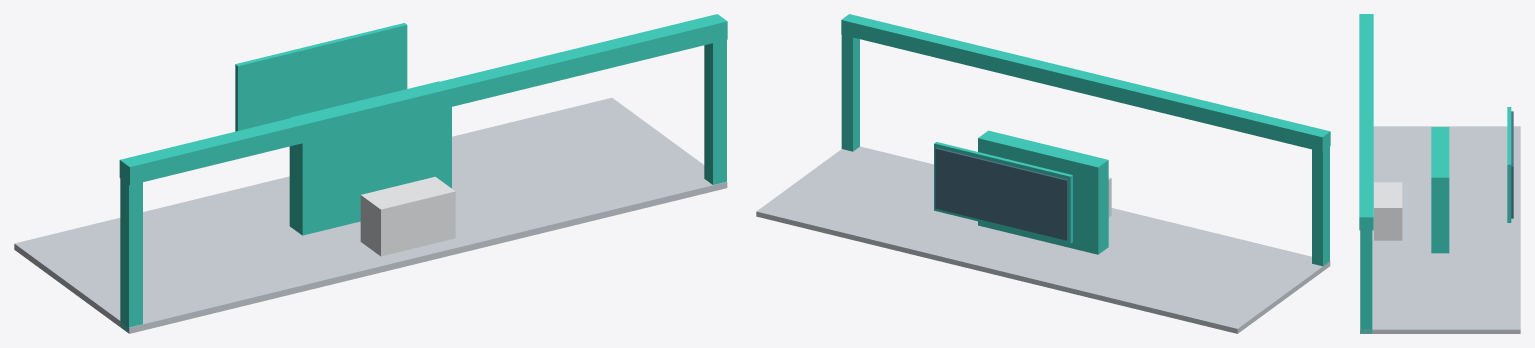
The picture shows the model from 3 angles, left to right: view 1: azimuth 30°, elevation 25°; view 2: azimuth 150°, elevation 25°; view 3: azimuth 270°, elevation 25°; orthographic projection. The views are drawn at different scales.
Visible parts, largest first — view 1: Exhibition Booth Concept; view 2: Exhibition Booth Concept; view 3: Exhibition Booth Concept.
Boxes of the visible parts, x1,y1,x2,y2 form: Exhibition Booth Concept: [14, 14, 727, 333]; Exhibition Booth Concept: [756, 14, 1330, 333]; Exhibition Booth Concept: [1359, 14, 1520, 333].
Size of the model in its own units: 12 by 3.2 by 4.02.
